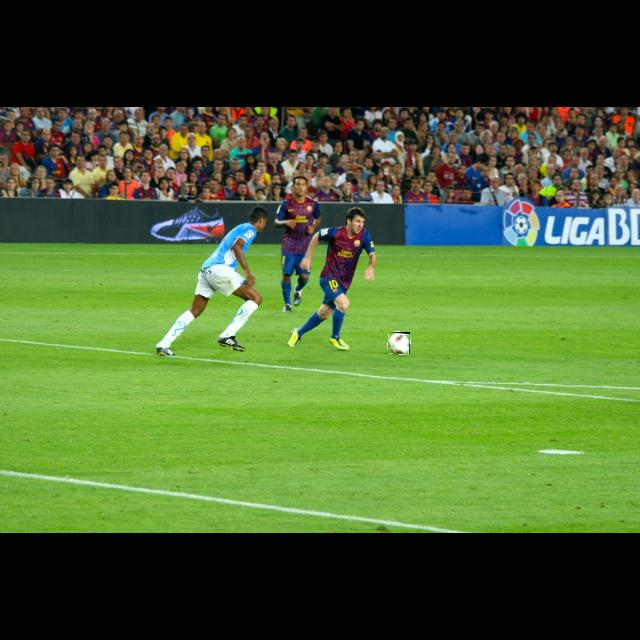Football: (388, 332, 410, 354)
